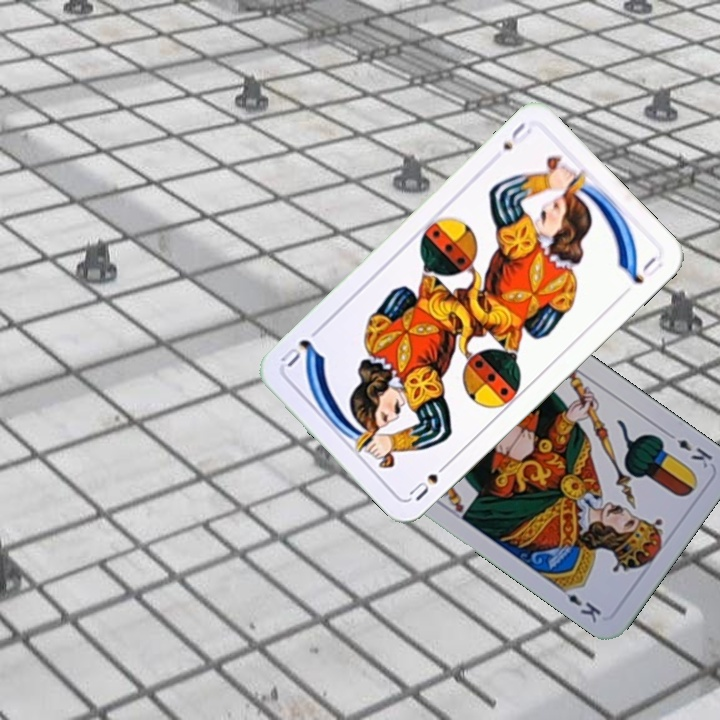EK: (662, 427, 715, 471)
SU: (404, 457, 453, 504), (498, 118, 533, 153)
